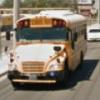buses: (7, 8, 91, 89)
